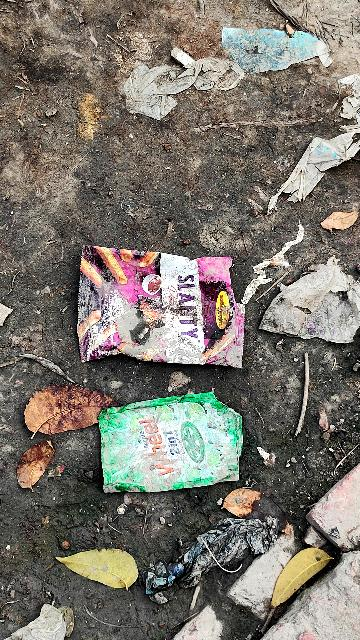packet: (90, 237, 247, 391), (99, 397, 239, 489)
